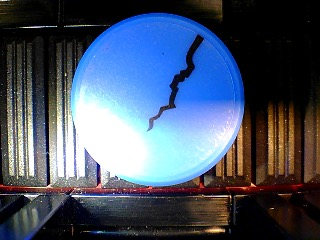CRACK: (71, 12, 245, 186)
